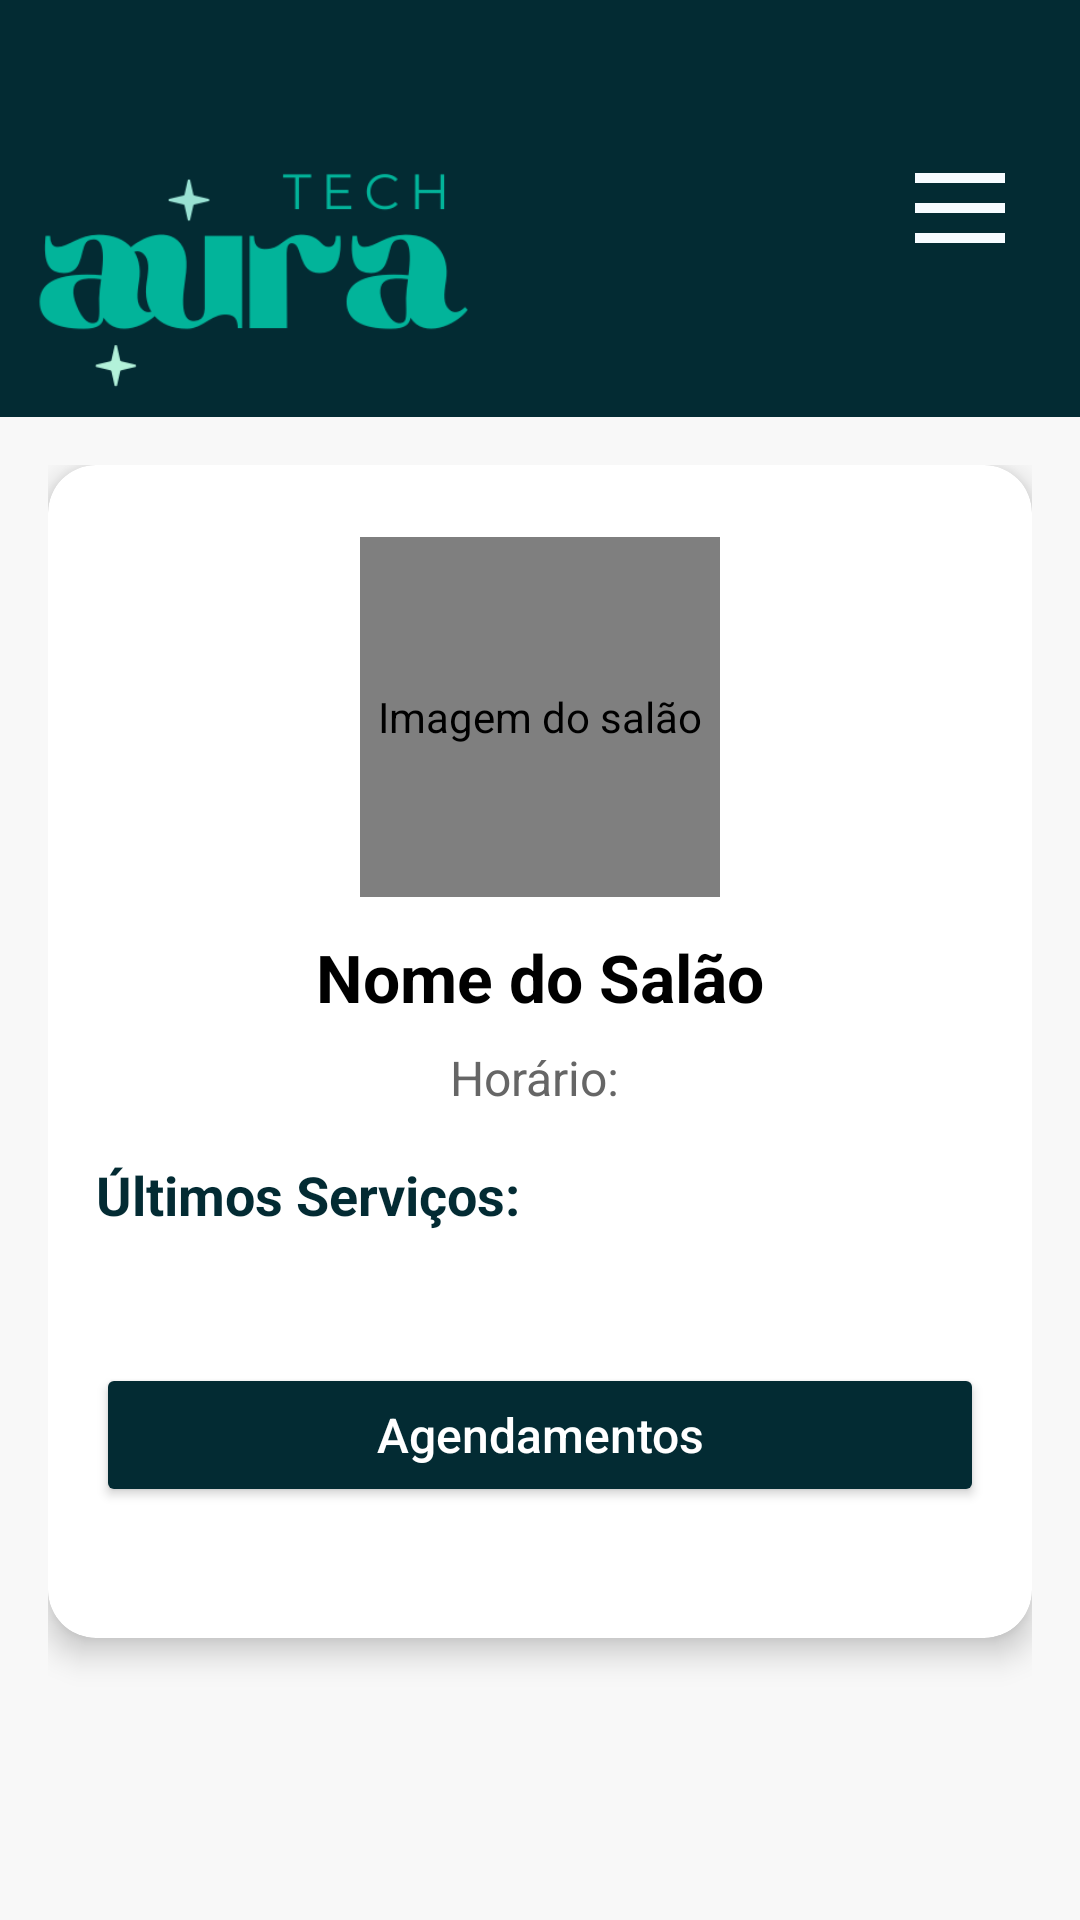

Icon bounding boxes for this 1080*1920 phone screenshot, format (left=x1, top=y1, right=x2, bottom=y2):
Menu: (left=915, top=173, right=1005, bottom=243)
